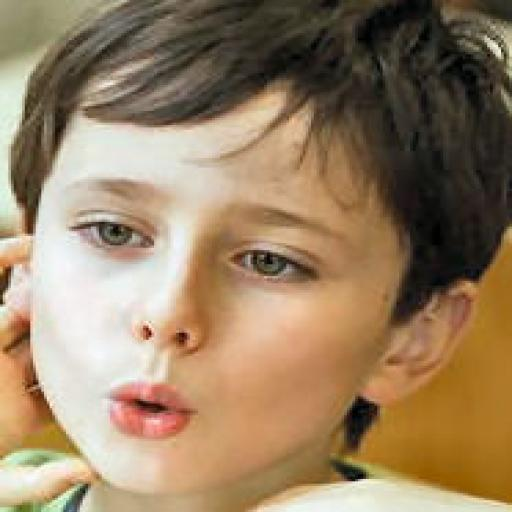Autism: (8, 4, 512, 496)
